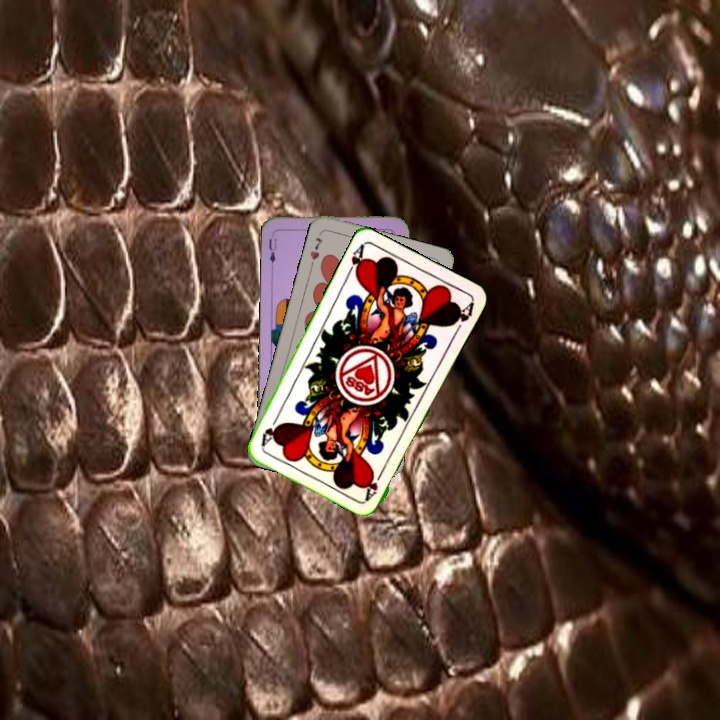EU: (265, 228, 279, 266)
H7: (306, 233, 326, 269)
HA: (342, 241, 368, 280), (361, 464, 387, 503)
